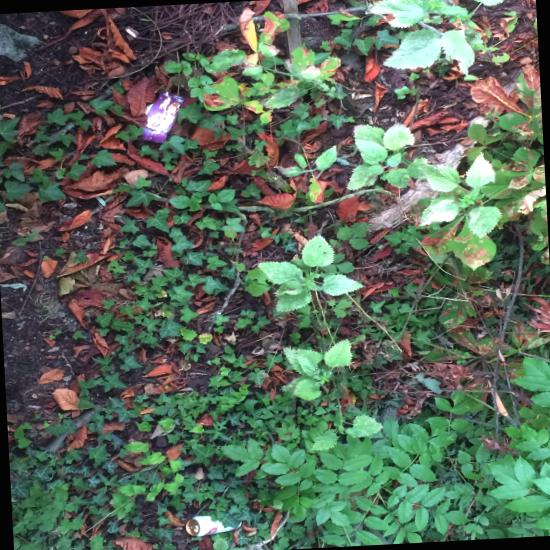Drink can: (185, 516, 242, 537)
Other plastic: (140, 91, 188, 143)
